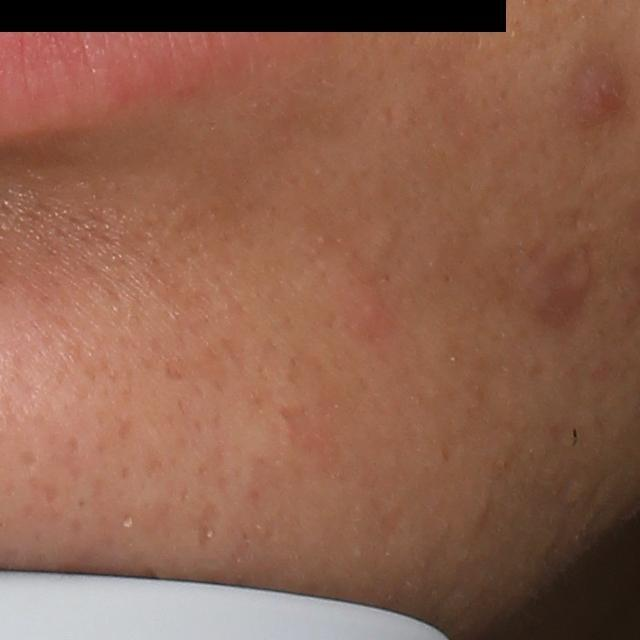atrophic_scar: (195, 502, 220, 550)
papule: (571, 57, 624, 130), (341, 289, 391, 347)
